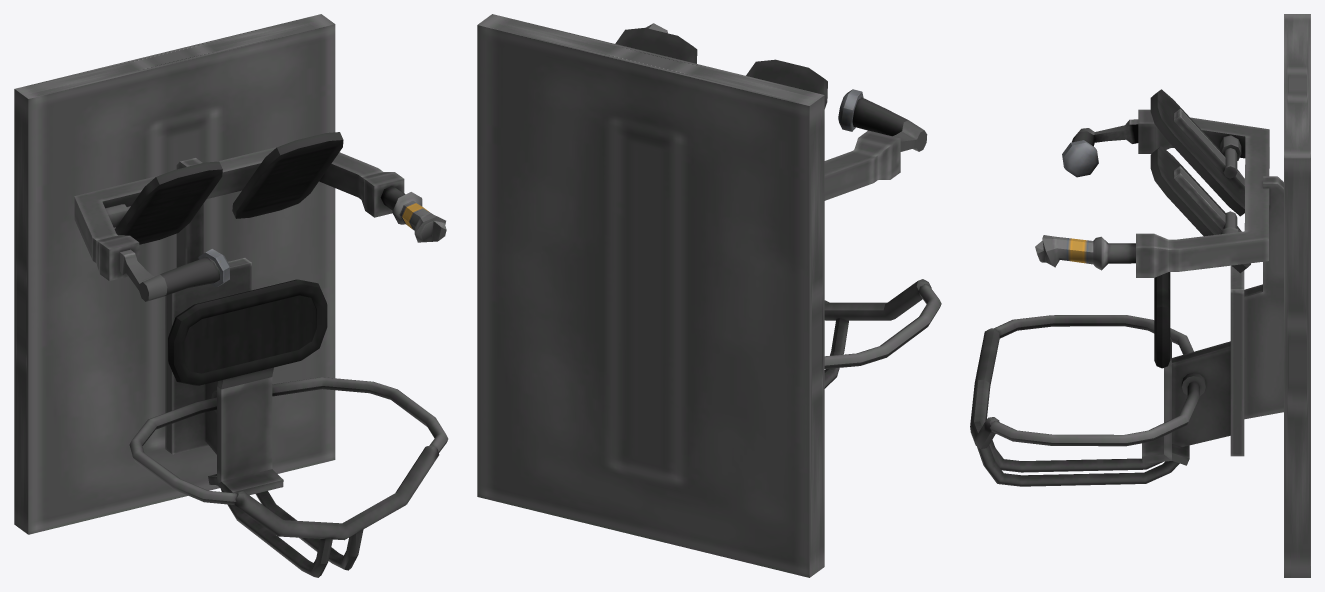
File: atvSeat.FBX
3 views of the same model, side by side, from view 1: azimuth 30°, elevation 25°; view 2: azimuth 150°, elevation 25°; view 3: azimuth 270°, elevation 25° (orthographic). The views are drawn at different scales.
Visible parts, largest first — view 1: Box004, kerbalchair, Backrest; view 2: Box004, kerbalchair, Backrest; view 3: kerbalchair, Box004, Backrest.
Part boxes in pixels (x1=…): Box004: x1=14, y1=14, x2=335, y2=534; kerbalchair: x1=74, y1=132, x2=446, y2=495; Backrest: x1=129, y1=377, x2=448, y2=577; Box004: x1=477, y1=14, x2=824, y2=577; kerbalchair: x1=615, y1=23, x2=927, y2=200; Backrest: x1=824, y1=279, x2=941, y2=388; kerbalchair: x1=1035, y1=89, x2=1283, y2=465; Box004: x1=1284, y1=14, x2=1310, y2=577; Backrest: x1=970, y1=315, x2=1199, y2=486.
Bounding box in the file's own units: 0.4226 × 0.5734 × 0.422.
